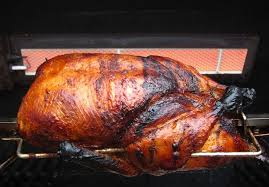peking_duck: (17, 48, 266, 178)
